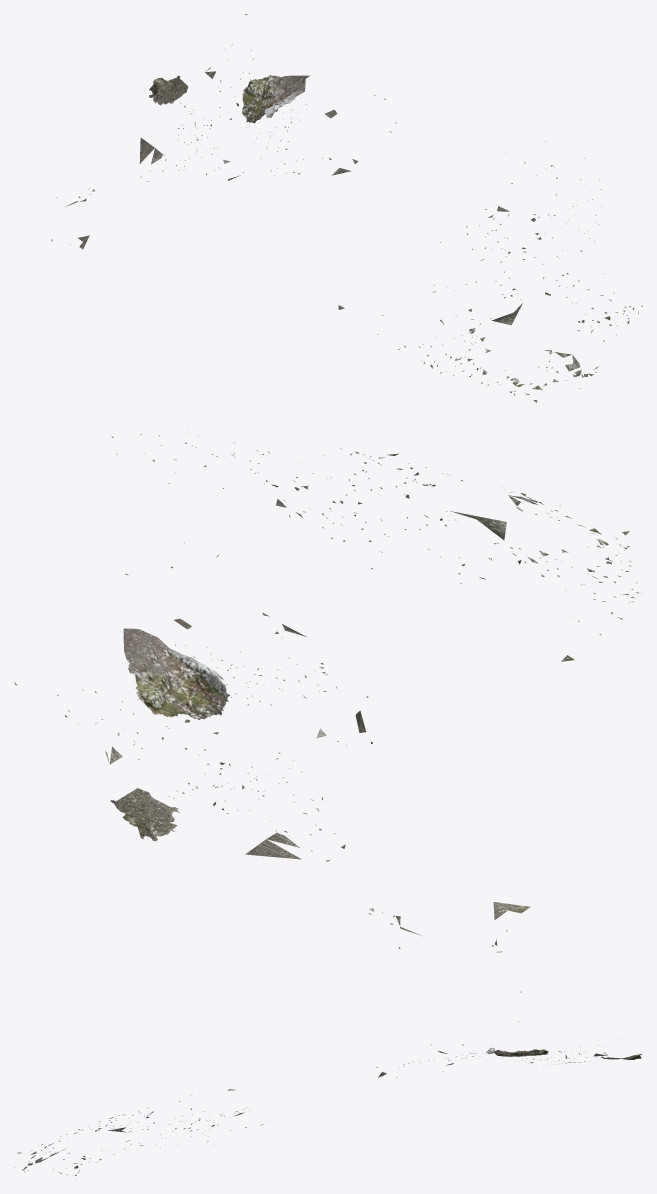
3 renders of one model, top to bottom at view 1: azimuth 30°, elevation 25°; view 2: azimuth 150°, elevation 25°; view 3: azimuth 270°, elevation 25°, orthographic. The views are drawn at different scales.
Size of the model in its own units: 58.95 by 19.72 by 85.26.
Materials: 1 (1 with a texture image).
